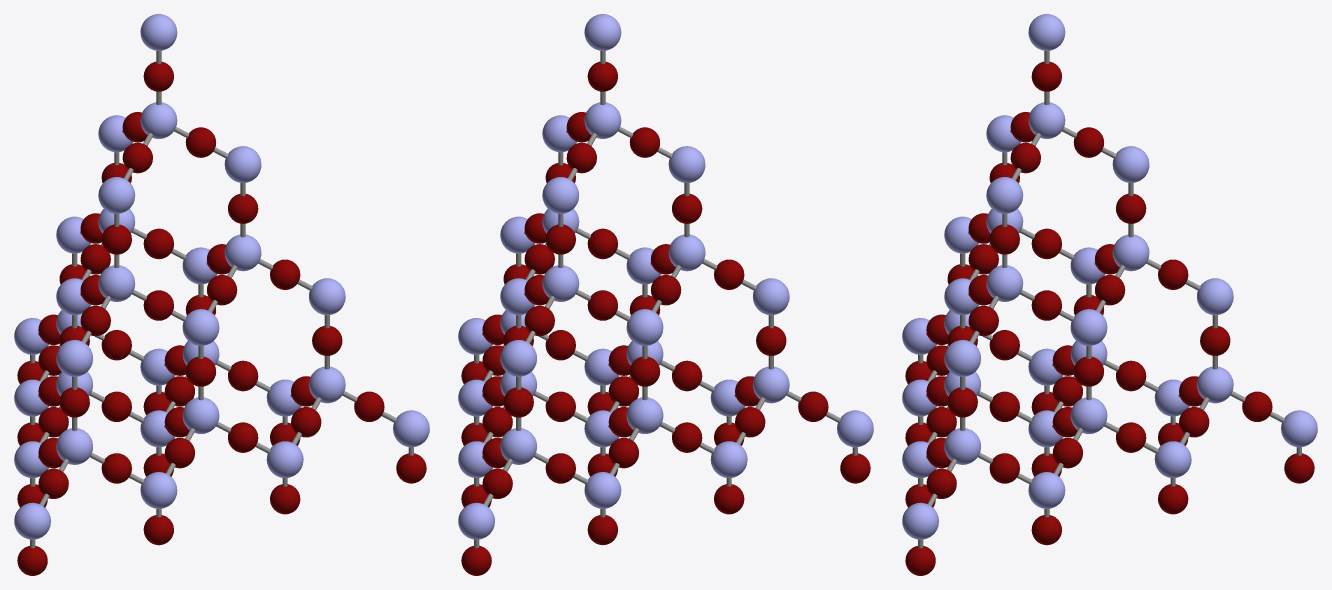
File: eryanghuagui.FBX
3 renders of one model, left to right at view 1: azimuth 30°, elevation 25°; view 2: azimuth 150°, elevation 25°; view 3: azimuth 270°, elevation 25°, orthographic.
Parts seen in each view (by area): view 1: Sphere111, Sphere043, Sphere049, Sphere035, Sphere059, Sphere092, Sphere044, Sphere108, Sphere095, Sphere051, Sphere048, Sphere056 (+55 smaller); view 2: Sphere102, Sphere046, Sphere035, Sphere077, Sphere049, Sphere111, Sphere043, Sphere053, Sphere125, Sphere110, Sphere048, Sphere072 (+55 smaller); view 3: Sphere092, Sphere044, Sphere059, Sphere035, Sphere077, Sphere102, Sphere075, Sphere046, Sphere115, Sphere117, Sphere056, Sphere097 (+55 smaller).
Boxes of the visible parts, bbox=[...] form: Sphere111: bbox=[14, 502, 50, 539]; Sphere043: bbox=[98, 177, 135, 213]; Sphere049: bbox=[56, 340, 92, 376]; Sphere035: bbox=[140, 14, 177, 50]; Sphere059: bbox=[309, 278, 345, 315]; Sphere092: bbox=[393, 410, 429, 447]; Sphere044: bbox=[224, 146, 261, 182]; Sphere108: bbox=[140, 472, 177, 508]; Sphere095: bbox=[266, 441, 303, 477]; Sphere051: bbox=[182, 309, 219, 345]; Sphere048: bbox=[98, 265, 135, 301]; Sphere056: bbox=[224, 234, 261, 271]; Sphere102: bbox=[458, 502, 494, 539]; Sphere046: bbox=[542, 177, 579, 213]; Sphere035: bbox=[584, 14, 621, 50]; Sphere077: bbox=[500, 340, 536, 376]; Sphere049: bbox=[752, 278, 789, 315]; Sphere111: bbox=[837, 410, 873, 447]; Sphere043: bbox=[668, 146, 705, 182]; Sphere053: bbox=[626, 309, 663, 345]; Sphere125: bbox=[584, 472, 621, 508]; Sphere110: bbox=[710, 441, 747, 477]; Sphere048: bbox=[668, 234, 705, 271]; Sphere072: bbox=[542, 265, 579, 301]; Sphere092: bbox=[902, 502, 938, 539]; Sphere044: bbox=[986, 177, 1023, 213]; Sphere059: bbox=[944, 340, 980, 376]; Sphere035: bbox=[1028, 14, 1065, 50]; Sphere077: bbox=[1197, 278, 1233, 315]; Sphere102: bbox=[1281, 410, 1317, 447]; Sphere075: bbox=[1070, 309, 1107, 345]; Sphere046: bbox=[1112, 146, 1149, 182]; Sphere115: bbox=[1028, 472, 1065, 508]; Sphere117: bbox=[1154, 441, 1191, 477]; Sphere056: bbox=[986, 265, 1023, 301]; Sphere097: bbox=[1196, 366, 1233, 403].
Bounding box in the file's own units: 39.09 × 42.41 × 34.26.
